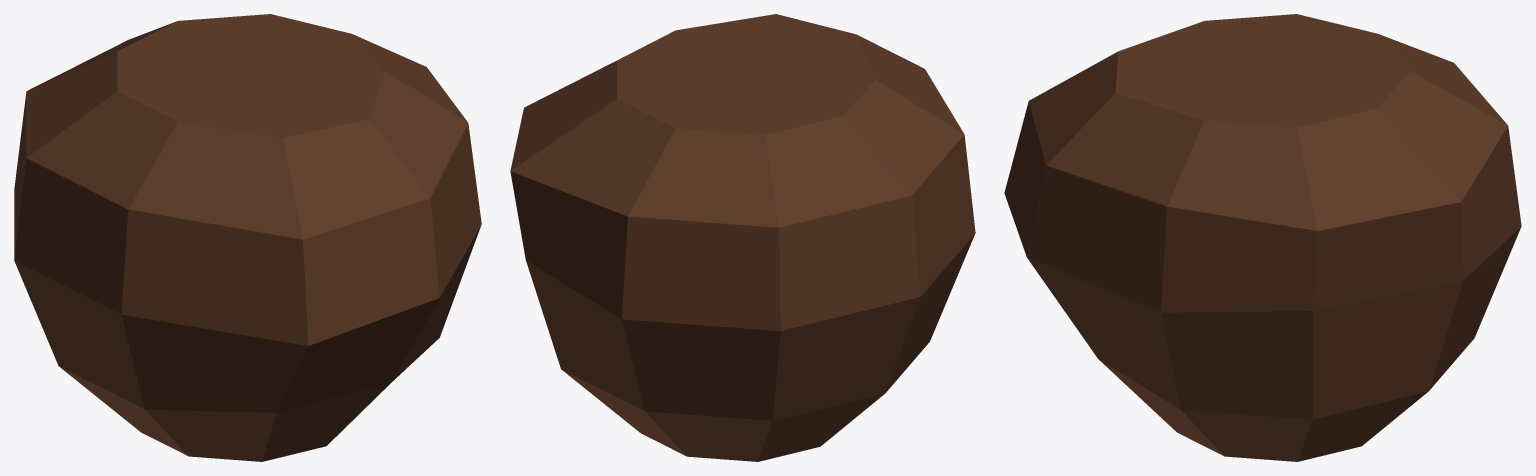
File: rock.fbx
The picture shows the model from 3 angles, left to right: view 1: azimuth 30°, elevation 25°; view 2: azimuth 150°, elevation 25°; view 3: azimuth 270°, elevation 25°; orthographic projection. The views are drawn at different scales.
Visible parts, largest first — view 1: Cylinder; view 2: Cylinder; view 3: Cylinder.
Part boxes in pixels (x1,y1,x2,y2): Cylinder: (14,14,481,461); Cylinder: (510,14,975,461); Cylinder: (1004,14,1521,461).
Bounding box in the file's own units: 437 × 353 × 478.
